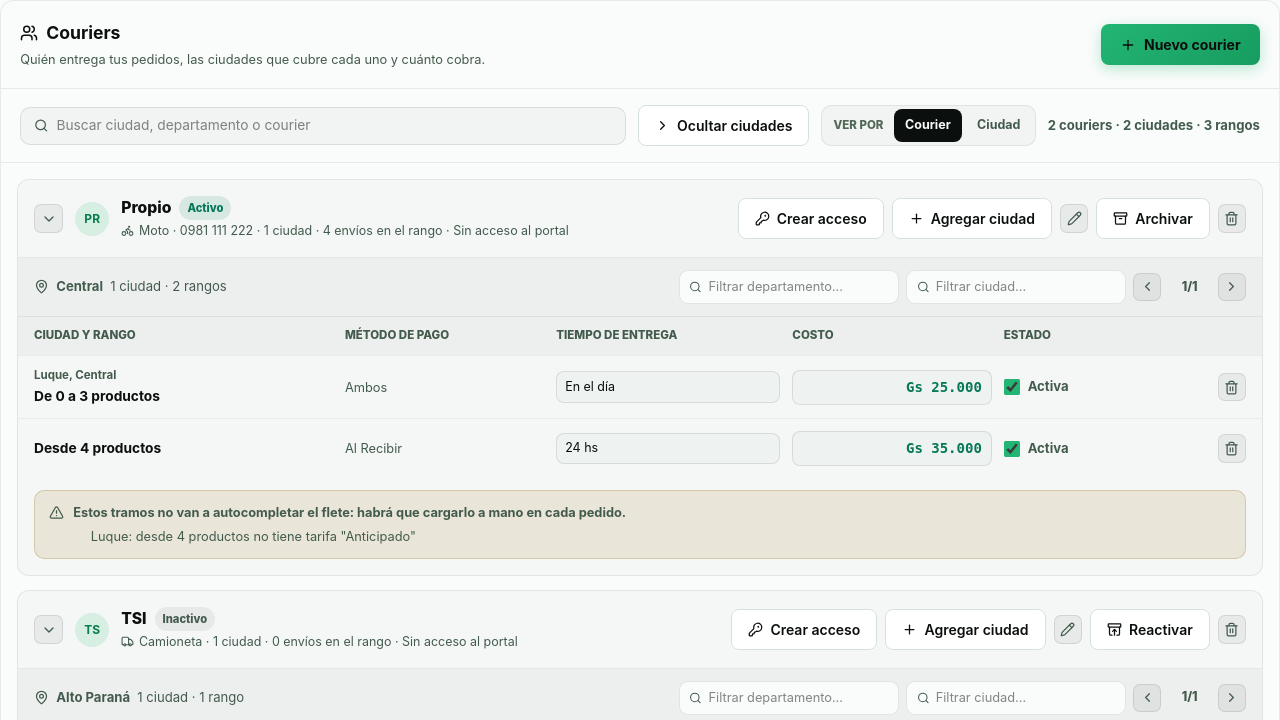
agrupa por courier y muestra sus ciudades adentro
The image size is (1280, 720).
Expected: the heading "Propio" is shown, [121,196,171,220]
Expected: the text "Luque, Central" is shown, [34,368,116,382]
Click the button "Ciudad" at coordinates (999, 126), box [966,109,1032,142]
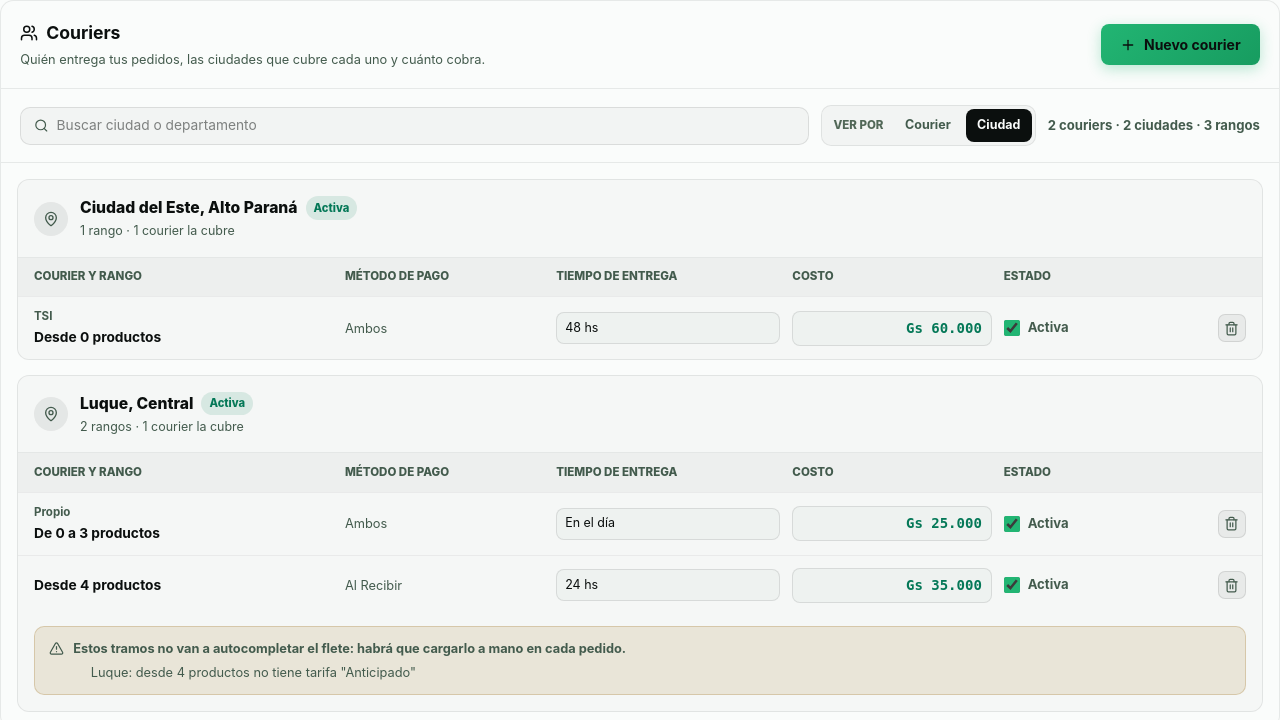
Expected: the text "TSI" is shown, [34,309,52,323]
Result: the heading "Ciudad del Este, Alto Paraná" is shown at [80,196,298,220]
